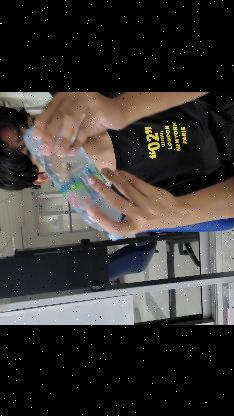Plastic Bottle: (21, 118, 134, 240)
